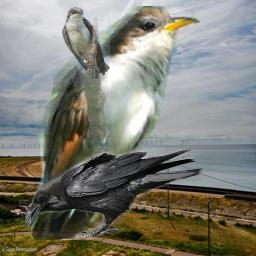Crow: (25, 149, 204, 237)
Cuckoo: (31, 6, 200, 240)
Swallow: (62, 7, 110, 79)
